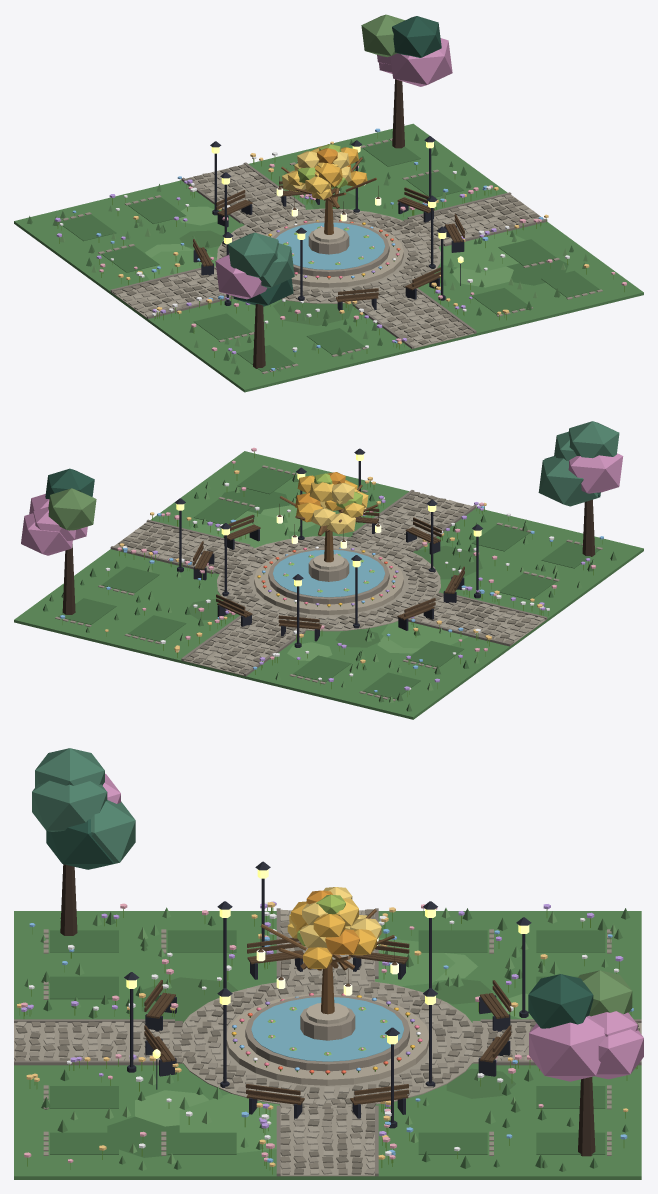
The model's file is park_C_landmark.glb.
3 renders of one model, top to bottom at view 1: azimuth 30°, elevation 25°; view 2: azimuth 150°, elevation 25°; view 3: azimuth 270°, elevation 25°, orthographic. The views are drawn at different scales.
Visible parts, largest first — view 1: park_C_landmark; view 2: park_C_landmark; view 3: park_C_landmark.
Boxes of the visible parts, bbox=[...] form: park_C_landmark: bbox=[14, 14, 643, 392]; park_C_landmark: bbox=[14, 421, 643, 719]; park_C_landmark: bbox=[14, 748, 643, 1179].
Bounding box in the file's own units: 16.37 × 5.3 × 16.06.
